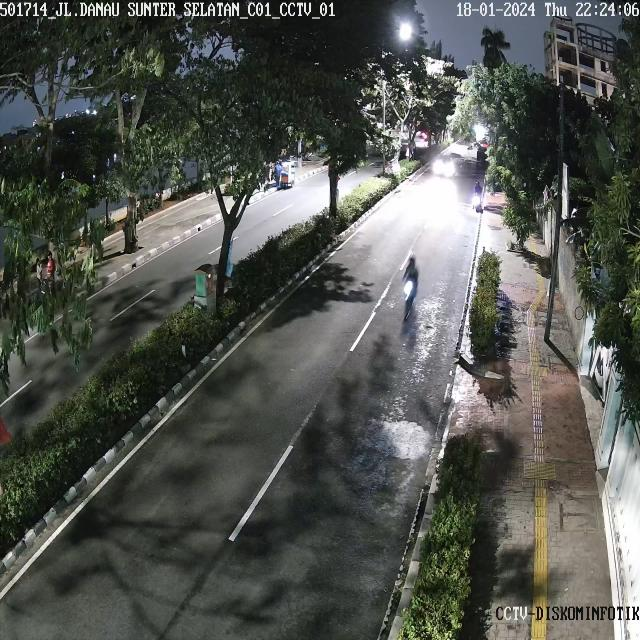Gerobak: (278, 157, 297, 188)
